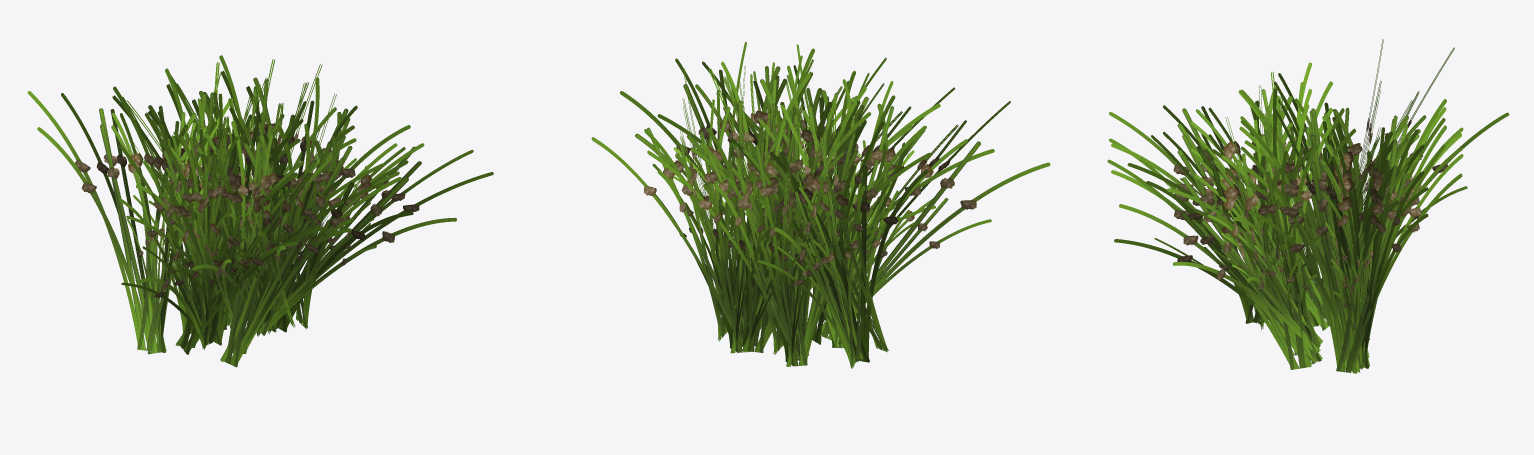
The picture shows the model from 3 angles, left to right: view 1: azimuth 30°, elevation 25°; view 2: azimuth 150°, elevation 25°; view 3: azimuth 270°, elevation 25°; orthographic projection. The views are drawn at different scales.
Visible parts, largest first — view 1: Cube.003; view 2: Cube.003; view 3: Cube.003.
Boxes of the visible parts, x1,y1,x2,y2 form: Cube.003: [27, 55, 493, 367]; Cube.003: [591, 42, 1050, 368]; Cube.003: [1107, 39, 1509, 373].
Bounding box in the file's own units: 338 × 263 × 305.
Materials: 1 (1 with a texture image).
